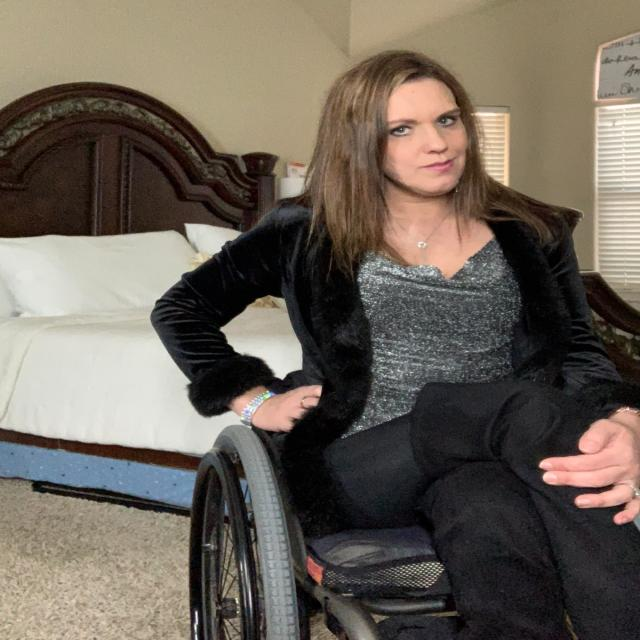wheelchairs: (149, 388, 640, 638)
